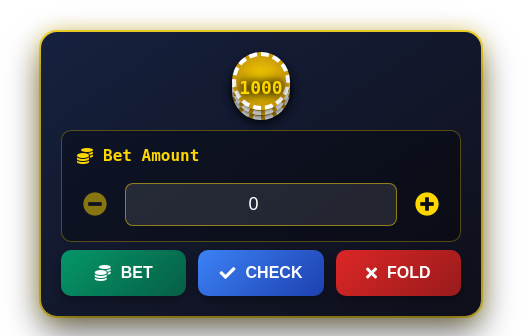
PokerHUD.vue › increases bet amount when increment button is clicked
The width and height of the screenshot is (523, 336).
Step 1. Click the 2nd button with class "bet-btn" → (427, 204), box left=409, top=190, right=445, bottom=220
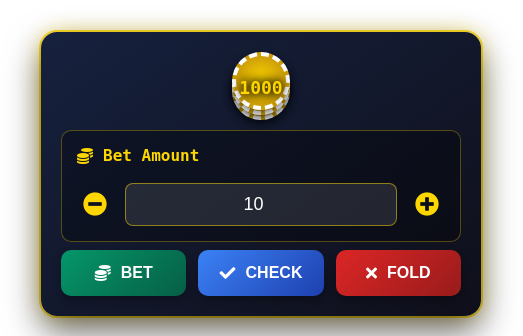
expect the number field with class "bet-input" holds "10": met, box left=125, top=183, right=397, bottom=226
Note: Click multiple times
Step 2. Click the 2nd button with class "bet-btn" → (427, 204), box left=409, top=190, right=445, bottom=220
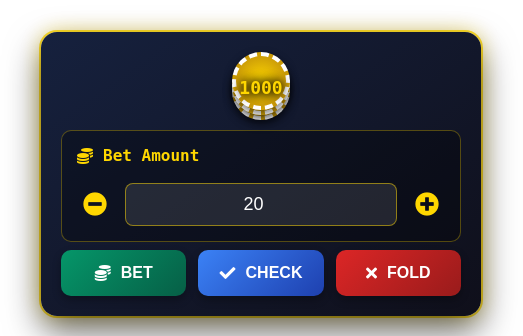
Step 3. Click the 2nd button with class "bet-btn" → (427, 204), box left=409, top=190, right=445, bottom=220
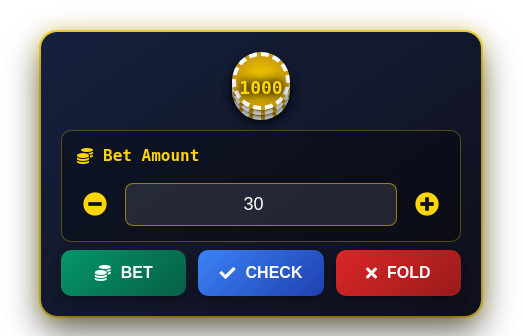
expect the number field with class "bet-input" holds "30": met, box left=125, top=183, right=397, bottom=226
